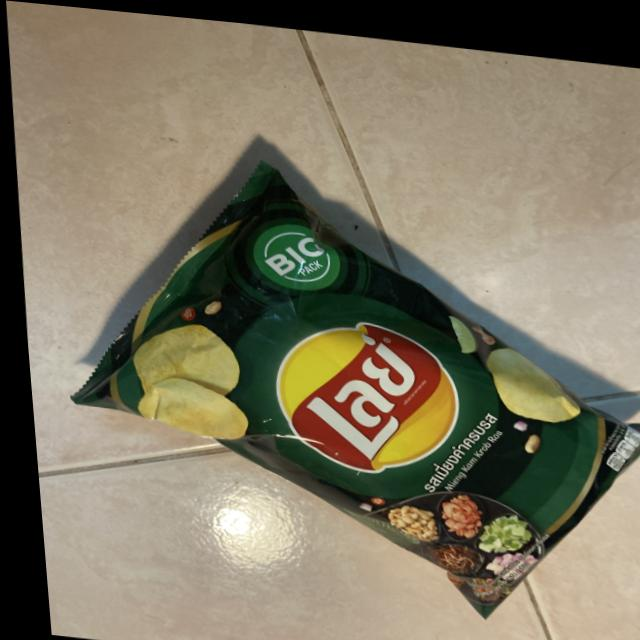Laygreen: (42, 131, 640, 640)
